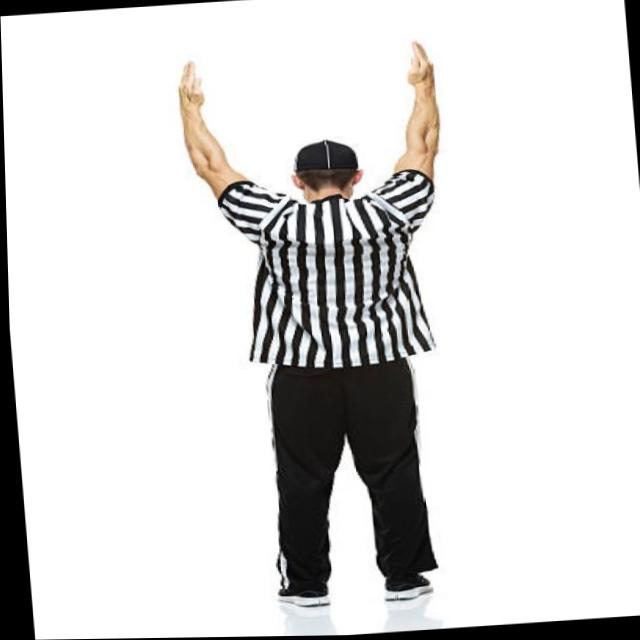no helmet: (281, 131, 377, 211)
